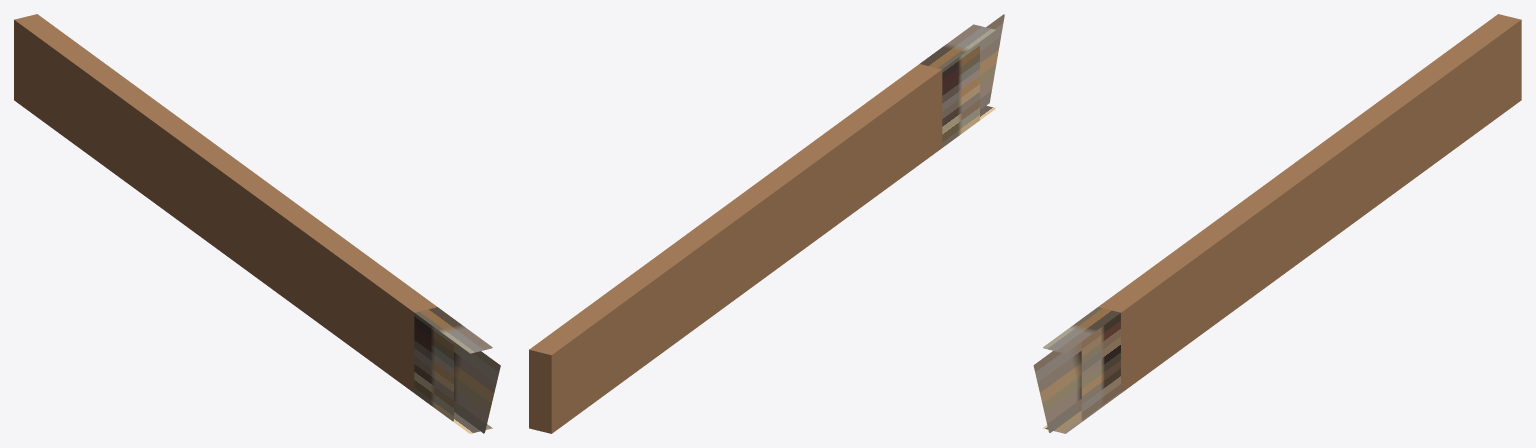
The model's file is DBK_WoodFrame_Alone_C.fbx.
3 views of the same model, side by side, from view 1: azimuth 30°, elevation 25°; view 2: azimuth 150°, elevation 25°; view 3: azimuth 330°, elevation 25° (orthographic). The views are drawn at different scales.
Parts seen in each view (by area): view 1: DBK_WoodFrame_Alone_C; view 2: DBK_WoodFrame_Alone_C; view 3: DBK_WoodFrame_Alone_C.
Boxes of the visible parts, <box> form: DBK_WoodFrame_Alone_C: <box>14,14,500,433</box>; DBK_WoodFrame_Alone_C: <box>529,14,1004,433</box>; DBK_WoodFrame_Alone_C: <box>1033,14,1521,433</box>.
Size of the model in its own units: 5 by 16.58 by 177.
